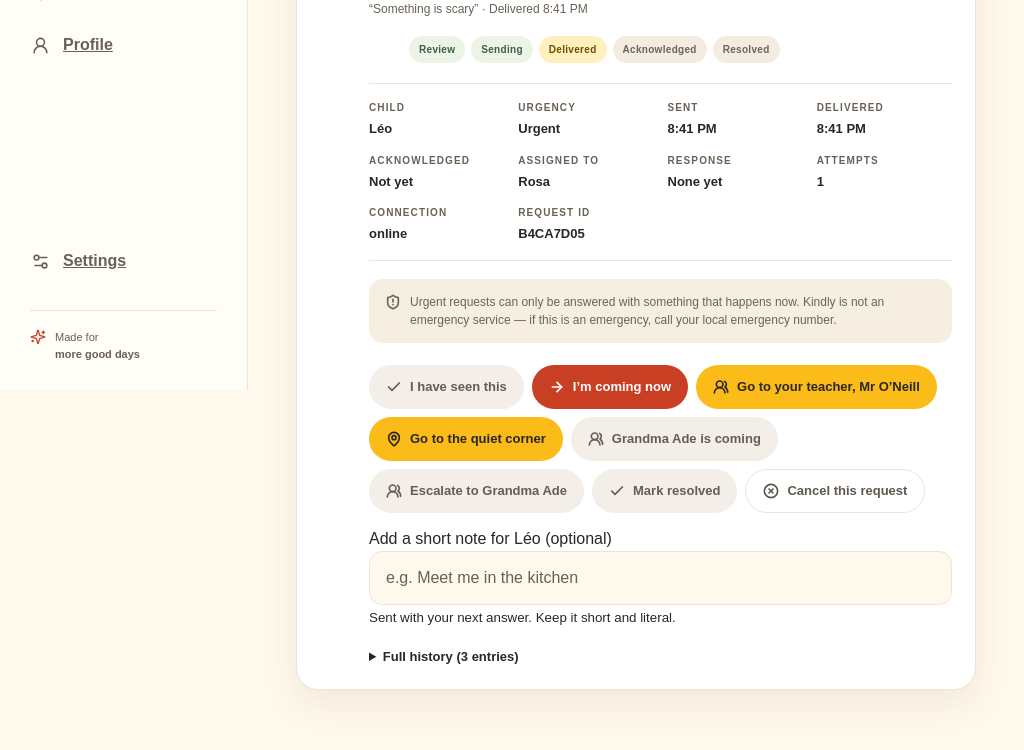
Test case: the request confirmation flow › asks for confirmation before closing an urgent request
(page scrolled)
Click the button "Mark resolved" at {"x": 665, "y": 490}, box 592,468 -> 737,512
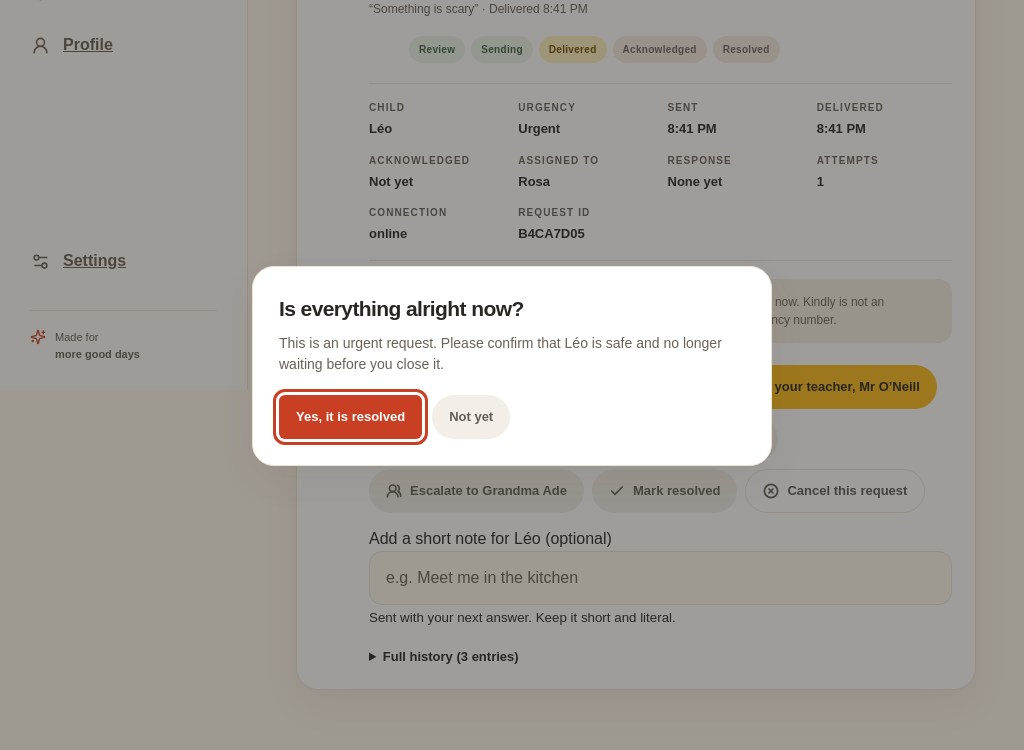
Check: the button "Yes, it is resolved" is shown, box 279,395 -> 422,439
Check: the button "Not yet" is shown, box 432,395 -> 510,439
